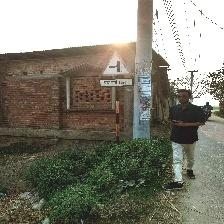Side-road-left: (99, 51, 133, 87)
